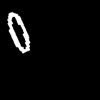chain: (8, 13, 29, 52)
